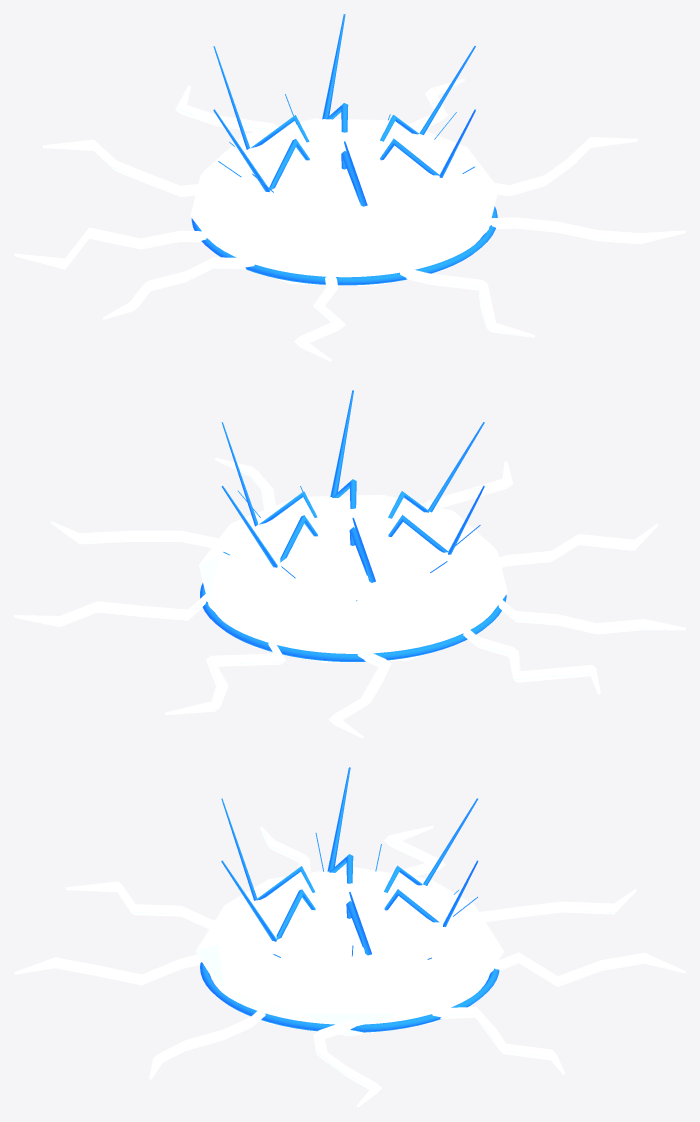
Rendered from impact.glb.
The picture shows the model from 3 angles, top to bottom: view 1: azimuth 30°, elevation 25°; view 2: azimuth 150°, elevation 25°; view 3: azimuth 270°, elevation 25°; orthographic projection. The views are drawn at different scales.
Parts seen in each view (by area): view 1: ImpactCore, GroundArcs, Crown, RadialBurst; view 2: ImpactCore, GroundArcs, Crown, RadialBurst; view 3: ImpactCore, GroundArcs, Crown, RadialBurst.
Part boxes in pixels (<box>): ImpactCore: <box>190,118,498,286</box>; GroundArcs: <box>14,78,685,361</box>; Crown: <box>213,14,475,206</box>; RadialBurst: <box>191,206,497,285</box>; ImpactCore: <box>198,494,507,662</box>; GroundArcs: <box>14,458,685,738</box>; Crown: <box>221,390,484,582</box>; RadialBurst: <box>200,583,506,661</box>; ImpactCore: <box>195,867,503,1036</box>; GroundArcs: <box>14,825,685,1107</box>; Crown: <box>221,767,478,955</box>; RadialBurst: <box>200,962,499,1032</box>.
Size of the model in its own units: 2.07 by 0.6145 by 2.1.
